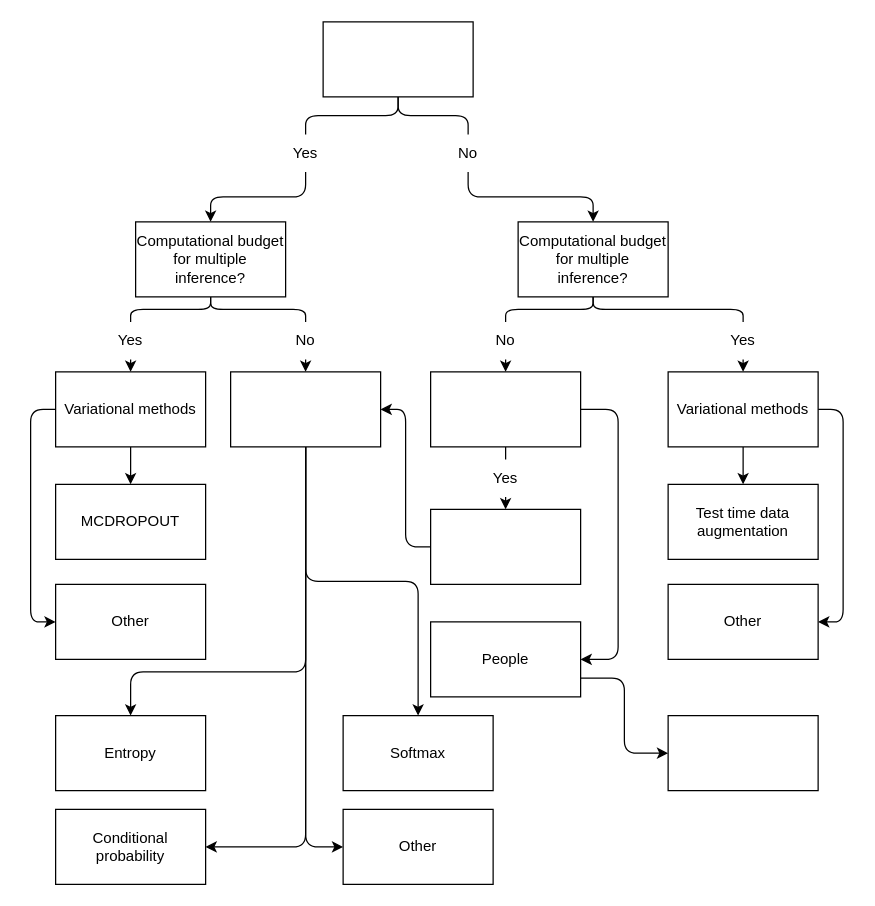
The diagram is 875 pixels wide and 906 high, and some of its shapes have lost their labels. Here are the shapes that lost their labels. From the top down, the centre of each, then its label:
At (x=397, y=59): "White box access?".
At (x=305, y=409): "Model insights".
At (x=505, y=409): "Numerical".
At (x=505, y=546): "UQ from external".
At (x=742, y=752): "Subject matter experts".
